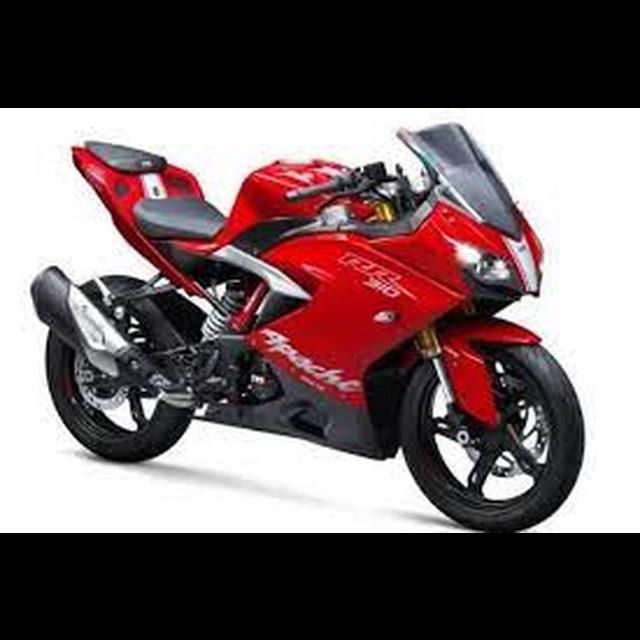motorcycle: (29, 117, 590, 534)
